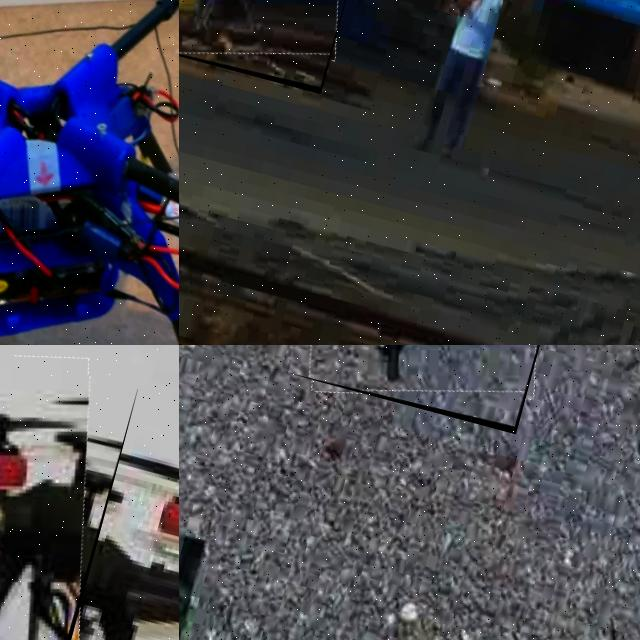0: (285, 345, 566, 434), (179, 0, 357, 93)
drone: (0, 0, 179, 345), (0, 345, 137, 640)
